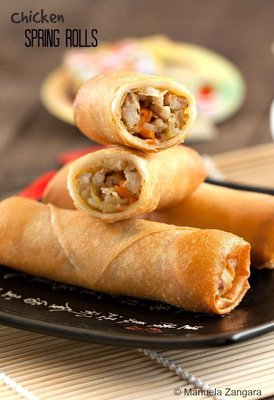pasta: (40, 33, 247, 135)
